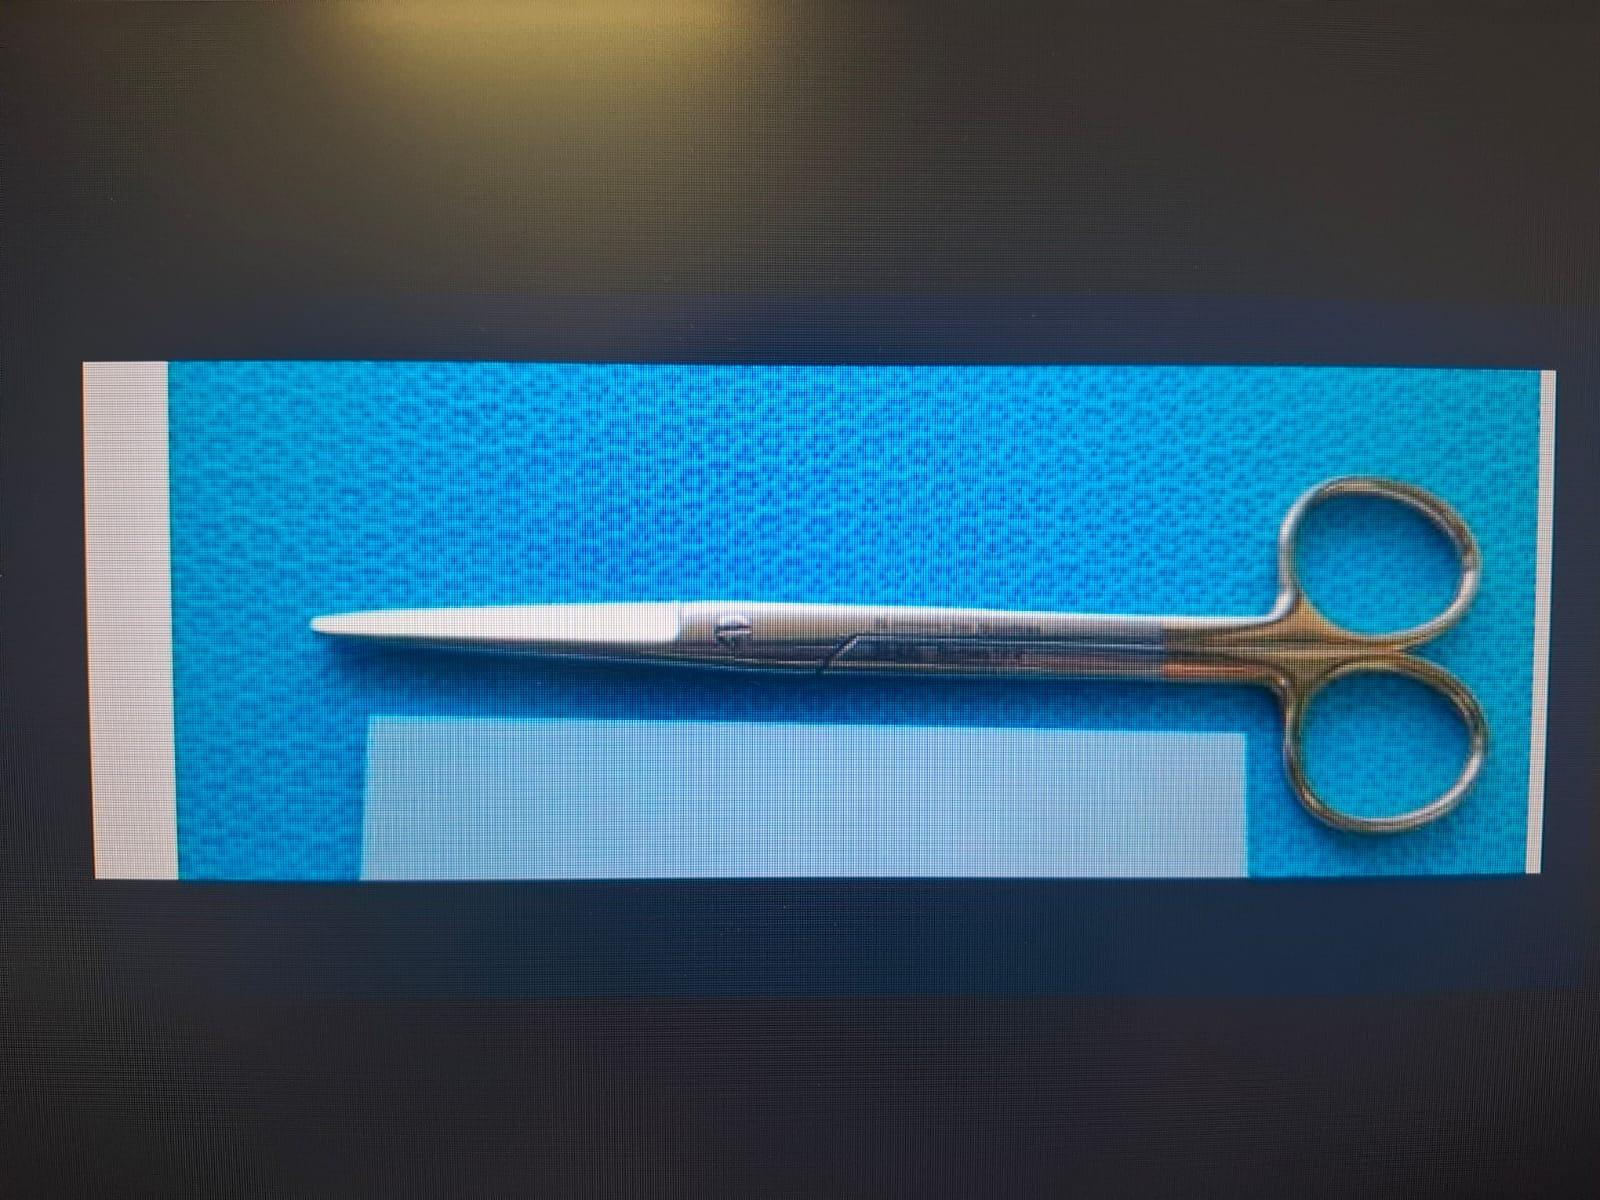Straight Mayo: (307, 456, 1504, 839)
